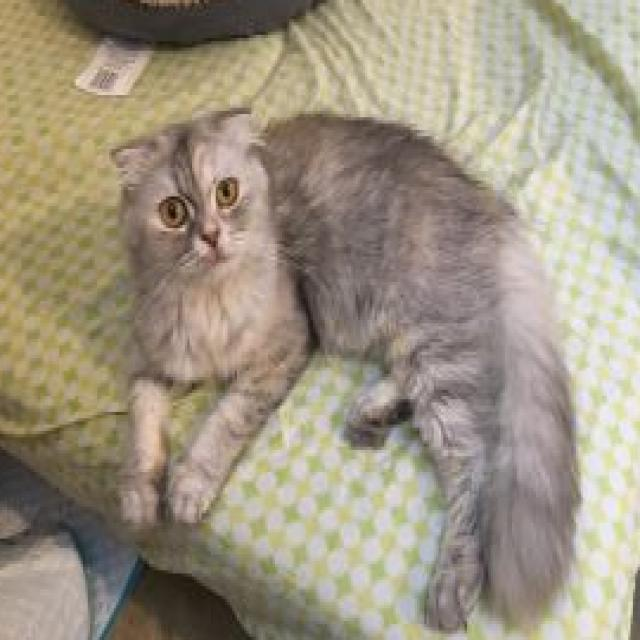Scottish Fold: (110, 91, 584, 637)
